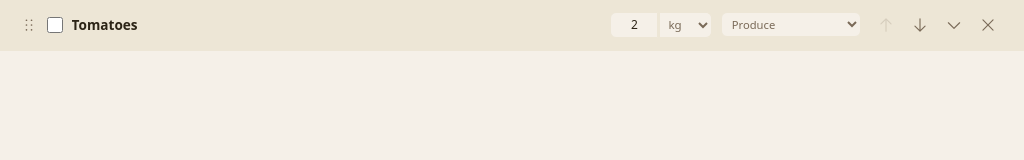
Test: ItemRow icon actions › keeps row actions named and preserves boundary disabled states
The width and height of the screenshot is (1024, 160).
Expected: the button named "Move item up" is disabled, 870,9 -> 902,41
Expected: the button named "Show more fields" is enabled, 938,9 -> 970,41
Focus the button named "Move item down": (920,25) 904,9 -> 936,41
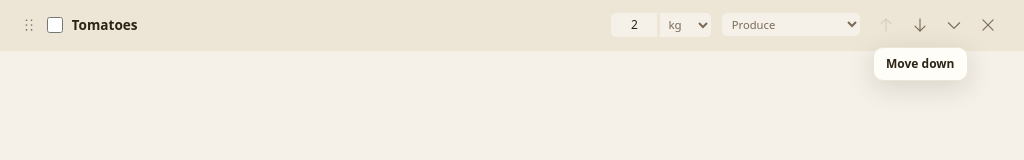
Now the tooltip reads "Move down", box 886,55 -> 954,72
